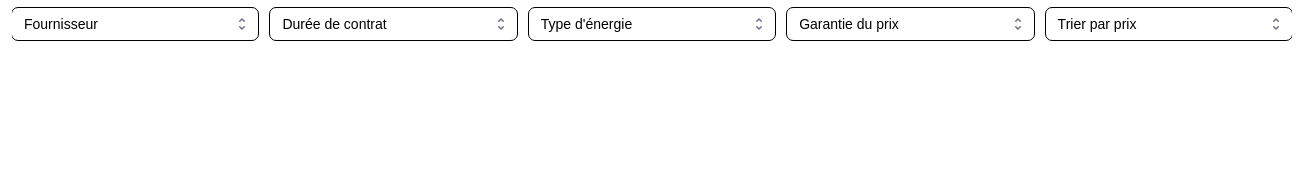
Test: Filters › Choose the first available contact duration from the filter
Click the button "Durée de contrat".
click(394, 24)  # box [270,8,517,40]
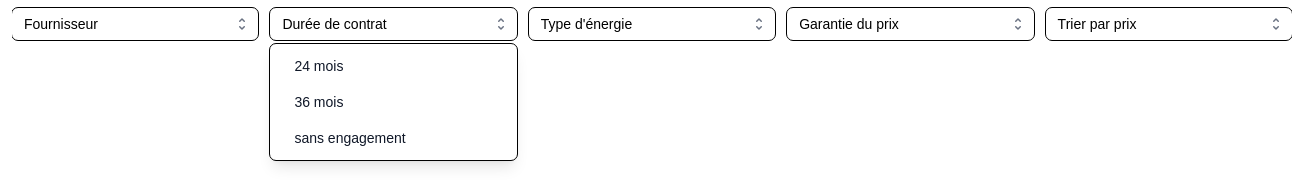
Click the option with test id "option-24 mois".
click(319, 66)  # box [294,58,343,74]
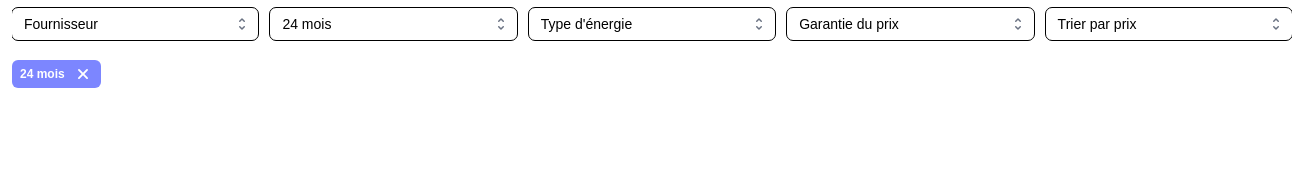
Expected: the list item with test id "label-24 mois" is shown, [12,60,101,88]
